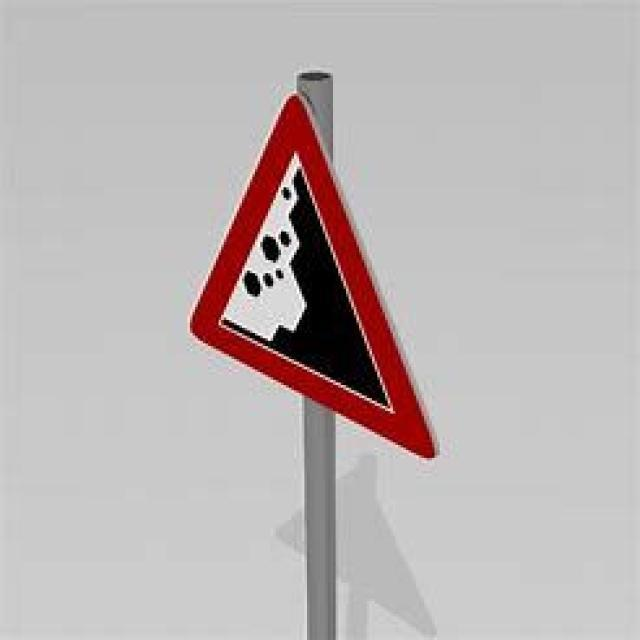falling rocks: (188, 83, 437, 466)
